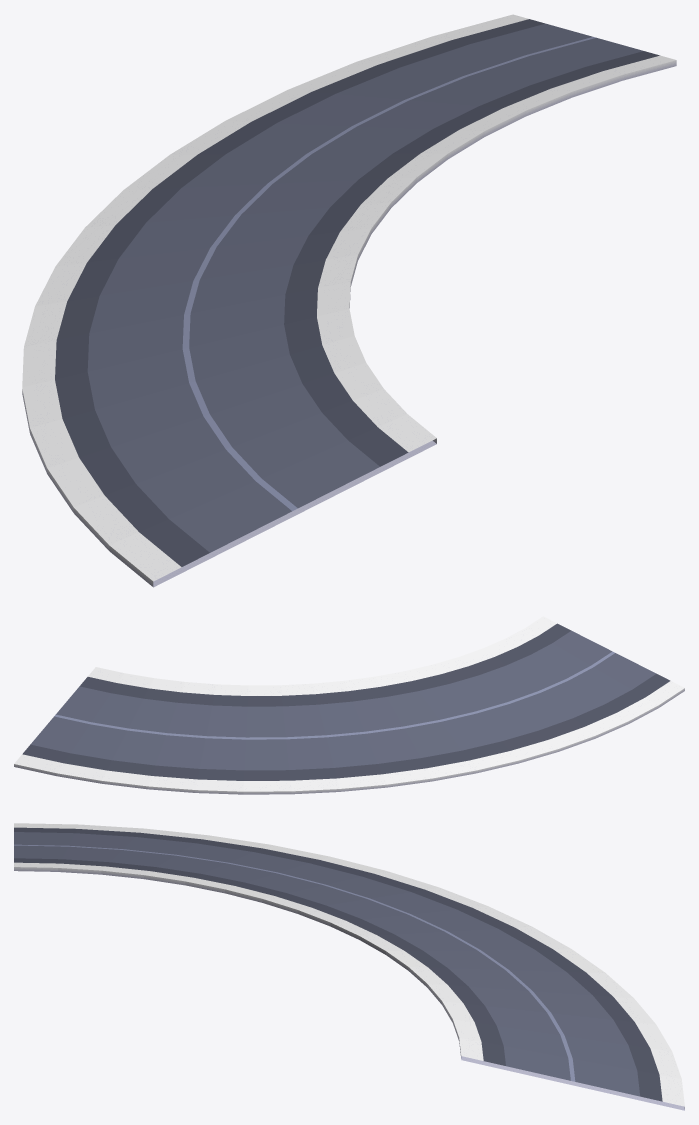
The model's file is road-Turn-HalfBankedLeft-HalfBankedLeft-Even-Right-Size3.glb.
3 views of the same model, one above another, from view 1: azimuth 30°, elevation 25°; view 2: azimuth 150°, elevation 25°; view 3: azimuth 270°, elevation 25° (orthographic). The views are drawn at different scales.
Parts seen in each view (by area): view 1: road-Turn-HalfBankedLeft-HalfBankedLeft-Even-Right-Size3; view 2: road-Turn-HalfBankedLeft-HalfBankedLeft-Even-Right-Size3; view 3: road-Turn-HalfBankedLeft-HalfBankedLeft-Even-Right-Size3.
Part boxes in pixels (x1=…): road-Turn-HalfBankedLeft-HalfBankedLeft-Even-Right-Size3: x1=22, y1=14, x2=676, y2=587; road-Turn-HalfBankedLeft-HalfBankedLeft-Even-Right-Size3: x1=14, y1=616, x2=684, y2=794; road-Turn-HalfBankedLeft-HalfBankedLeft-Even-Right-Size3: x1=14, y1=823, x2=684, y2=1110.
Bounding box in the file's own units: 3 × 0.27 × 3.
1 material, 1 textured.
